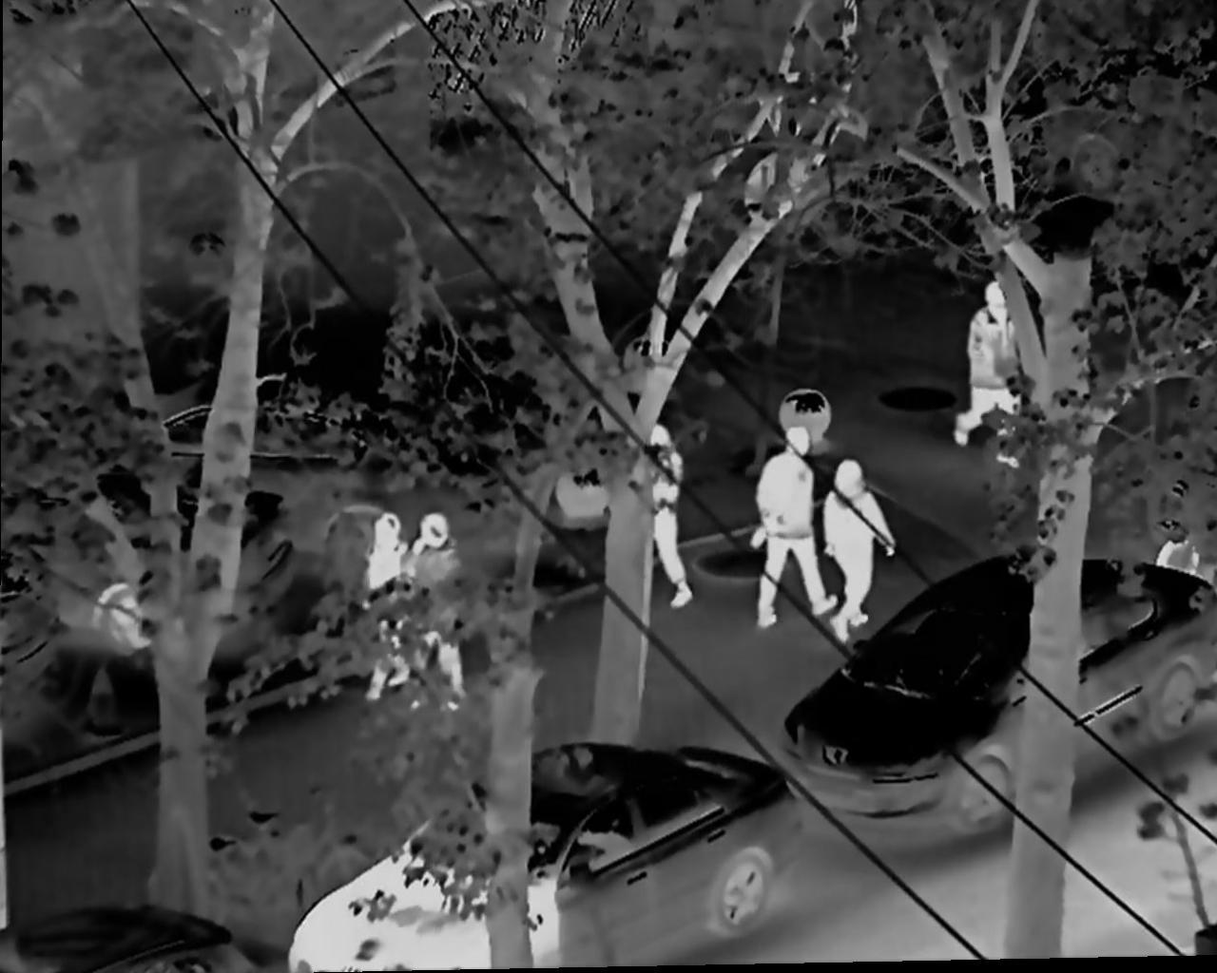person: (743, 418, 841, 625), (950, 270, 1033, 461), (822, 451, 901, 647), (632, 423, 702, 613), (409, 510, 471, 711), (359, 508, 421, 702)
